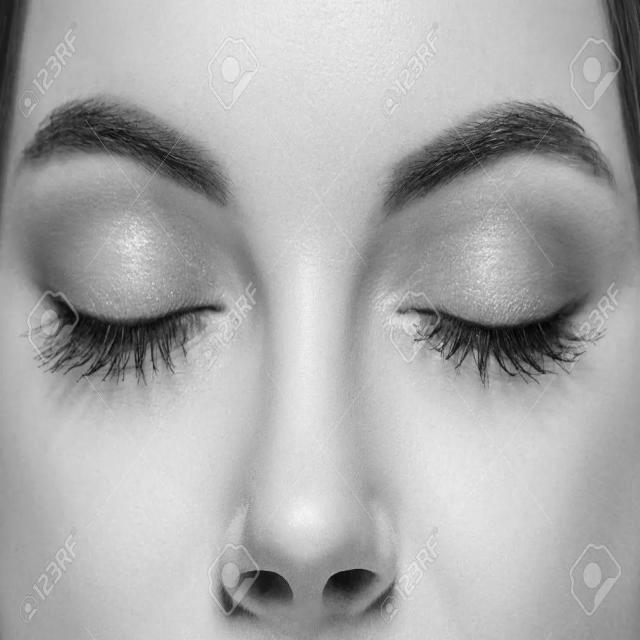real: (10, 84, 640, 422)
